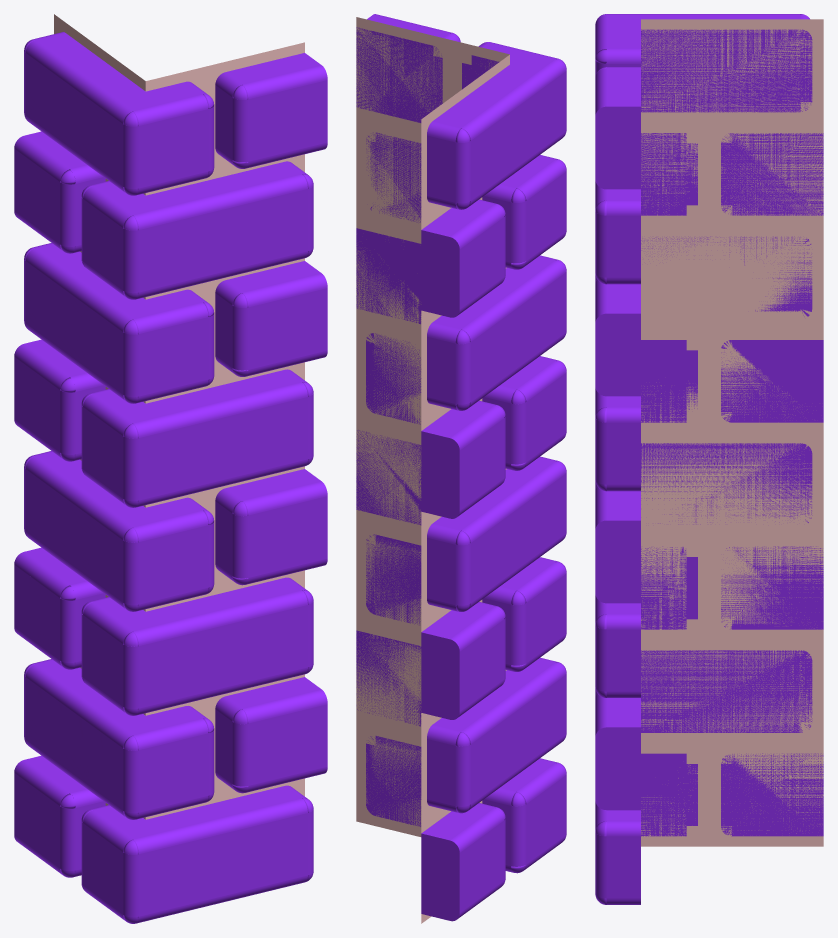
File: convex_2.dae
The picture shows the model from 3 angles, left to right: view 1: azimuth 30°, elevation 25°; view 2: azimuth 150°, elevation 25°; view 3: azimuth 270°, elevation 25°; orthographic projection. The views are drawn at different scales.
Parts seen in each view (by area): view 1: corner_convex_2 (×8), brick_half (×8), group_10 (×8), group_2 (×4), group_19 (×8), group_3 (×8), group_15 (×4), group_6 (×4), group_8 (×5), group_14 (×4), group_18 (×4), group_7 (×4) (+1 smaller); view 2: corner_convex_2 (×8), brick_half (×8), group_8 (×8), group_14 (×4), group_10 (×4), group_18 (×4), group_9 (×4), group_5 (×4), group_7 (×4), group_2 (×4), group_4 (×4), group_1; view 3: corner_convex_2 (×8), group_8 (×4), brick_half (×8), group_14 (×4), group_1 (×4), group_9 (×4), group_13 (×4), group_15 (×4), group_11.
Part boxes in pixels (<box>): corner_convex_2 (×8): <box>25,33,307,916</box>; brick_half (×8): <box>14,53,327,870</box>; group_10 (×8): <box>25,40,307,923</box>; group_2 (×4): <box>133,174,307,854</box>; group_19 (×8): <box>60,98,248,870</box>; group_3 (×8): <box>123,124,138,917</box>; group_15 (×4): <box>243,65,327,723</box>; group_6 (×4): <box>133,94,208,749</box>; group_8 (×5): <box>54,14,304,819</box>; group_14 (×4): <box>205,42,304,792</box>; group_18 (×4): <box>14,136,69,805</box>; group_7 (×4): <box>83,186,132,851</box>; corner_convex_2 (×8): <box>366,43,565,865</box>; brick_half (×8): <box>356,15,503,920</box>; group_8 (×8): <box>356,55,509,836</box>; group_14 (×4): <box>356,17,452,736</box>; group_10 (×4): <box>461,59,564,743</box>; group_18 (×4): <box>450,204,503,852</box>; group_9 (×4): <box>455,141,470,806</box>; group_5 (×4): <box>511,201,526,866</box>; group_7 (×4): <box>517,160,564,803</box>; group_2 (×4): <box>468,132,564,809</box>; group_4 (×4): <box>427,121,460,745</box>; group_1: <box>452,40,509,96</box>; corner_convex_2 (×8): <box>606,15,812,898</box>; group_8 (×4): <box>641,19,823,743</box>; brick_half (×8): <box>595,68,823,836</box>; group_14 (×4): <box>709,122,823,846</box>; group_1 (×4): <box>641,122,709,846</box>; group_9 (×4): <box>595,211,606,898</box>; group_13 (×4): <box>606,200,640,836</box>; group_15 (×4): <box>595,68,606,737</box>; group_11: <box>606,48,640,63</box>.
Size of the model in its own units: 19.69 by 19.69 by 78.74.
